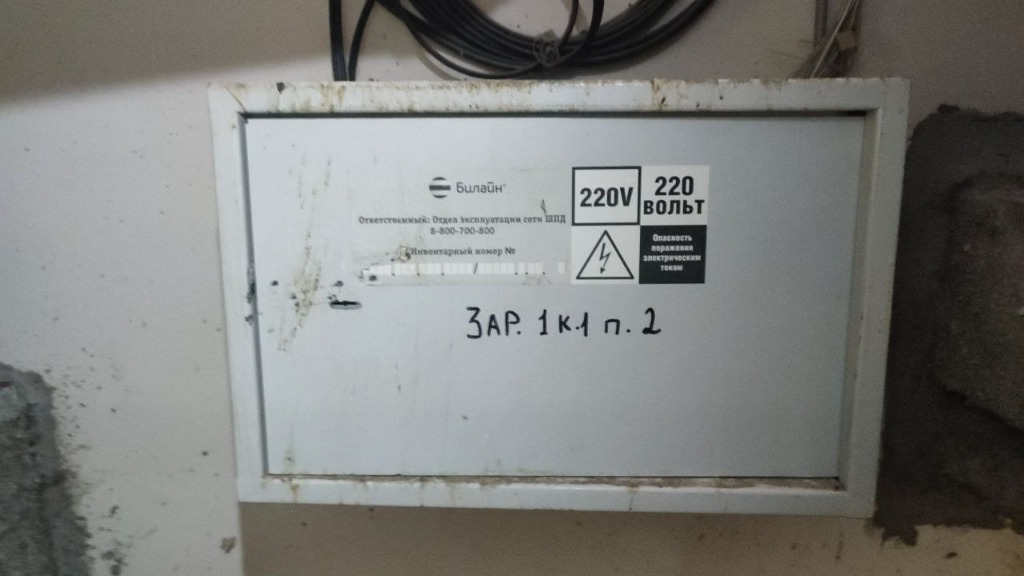shta-7m: (199, 68, 917, 526)
